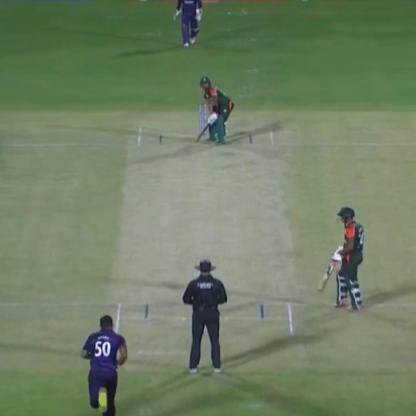bat: (316, 250, 342, 301), (192, 116, 212, 145)
pitch: (108, 128, 300, 342)
